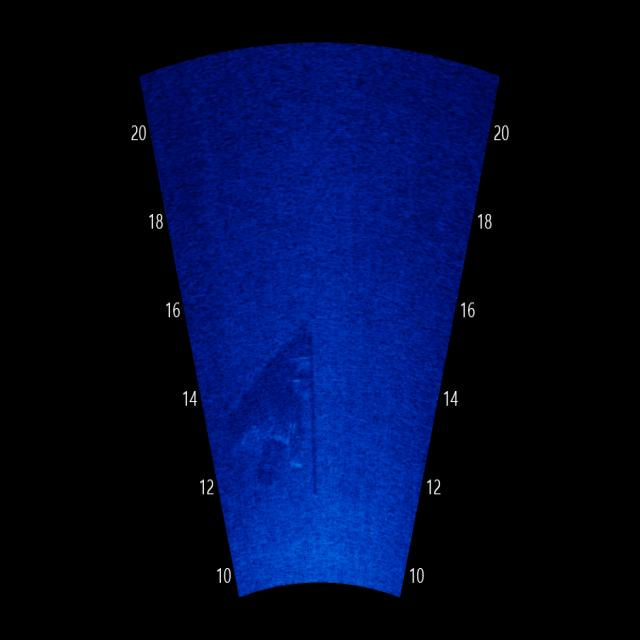triangle: (223, 319, 335, 506)
